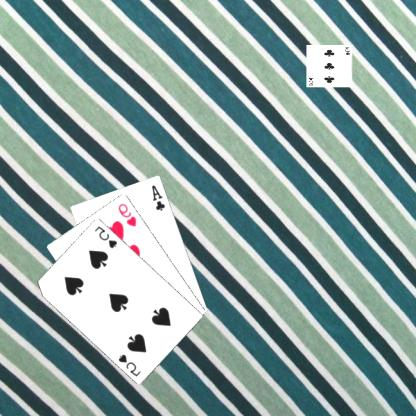5S: (93, 222, 120, 250), (117, 351, 144, 378)
9H: (117, 200, 140, 228)
AC: (151, 182, 168, 212)
